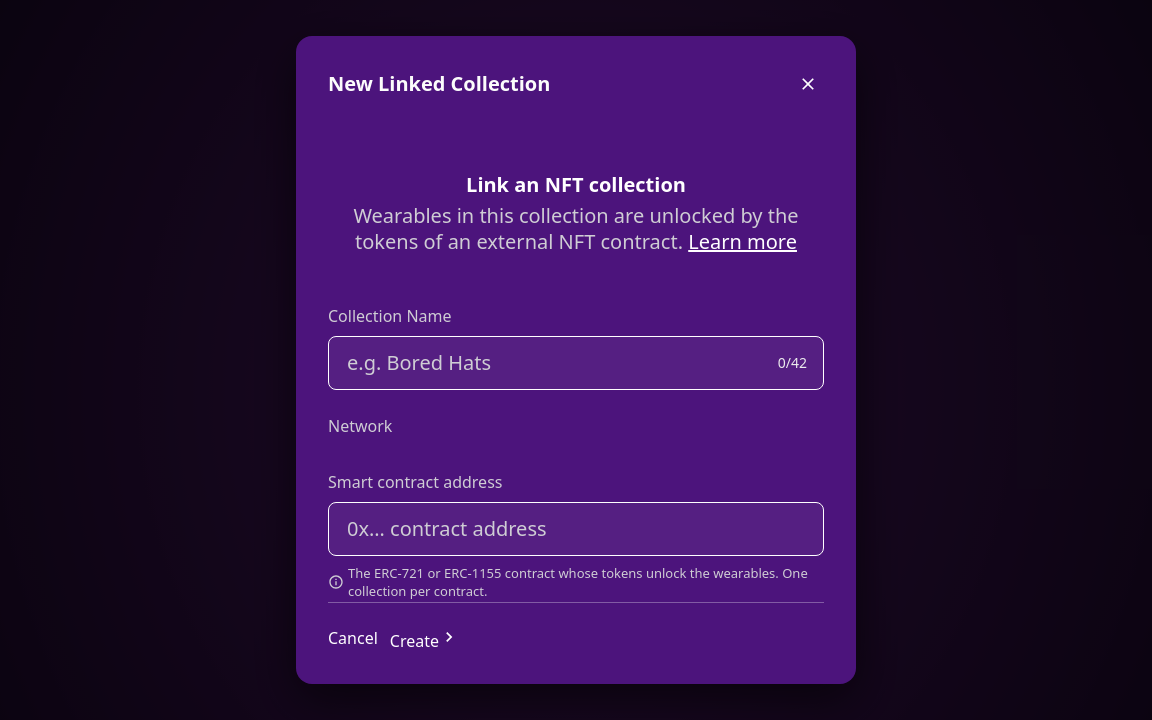
it: CreateLinkedCollectionModal › refuses anything that cannot become an address as it is typed
Type "0xzz" into the field with test id "linked-contract-address-input" at [576, 529], box [345, 513, 807, 545]
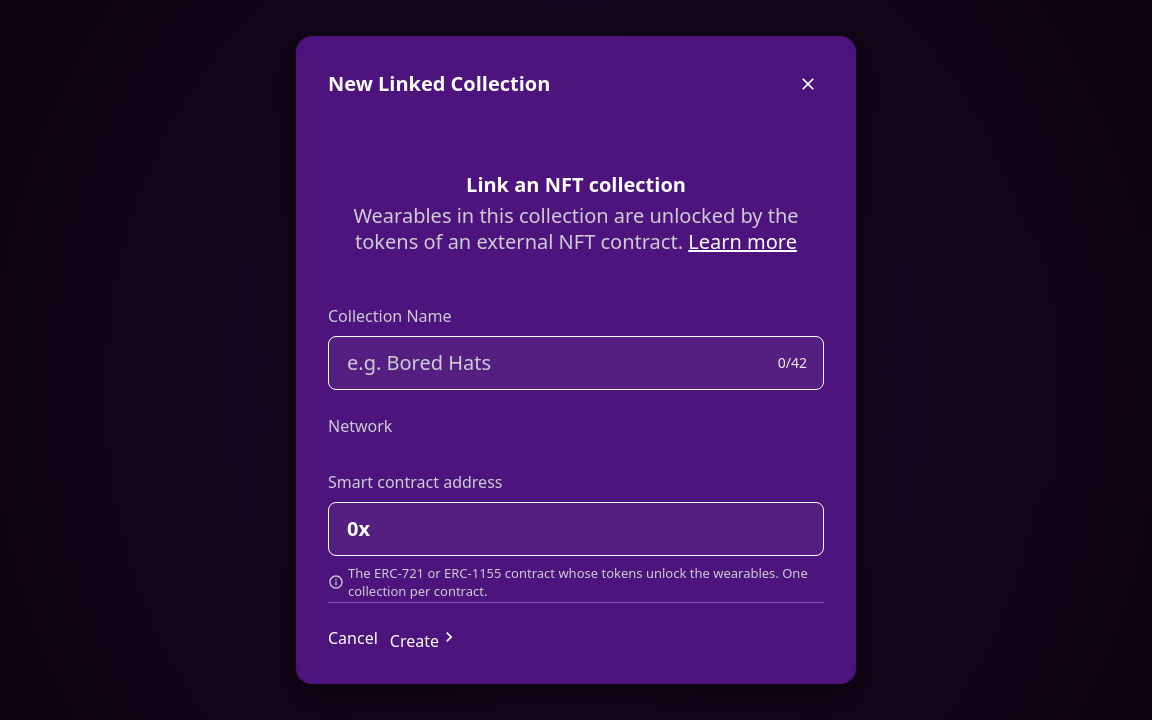
Expected: the field with test id "linked-contract-address-input" holds "0x", [345, 513, 807, 545]
